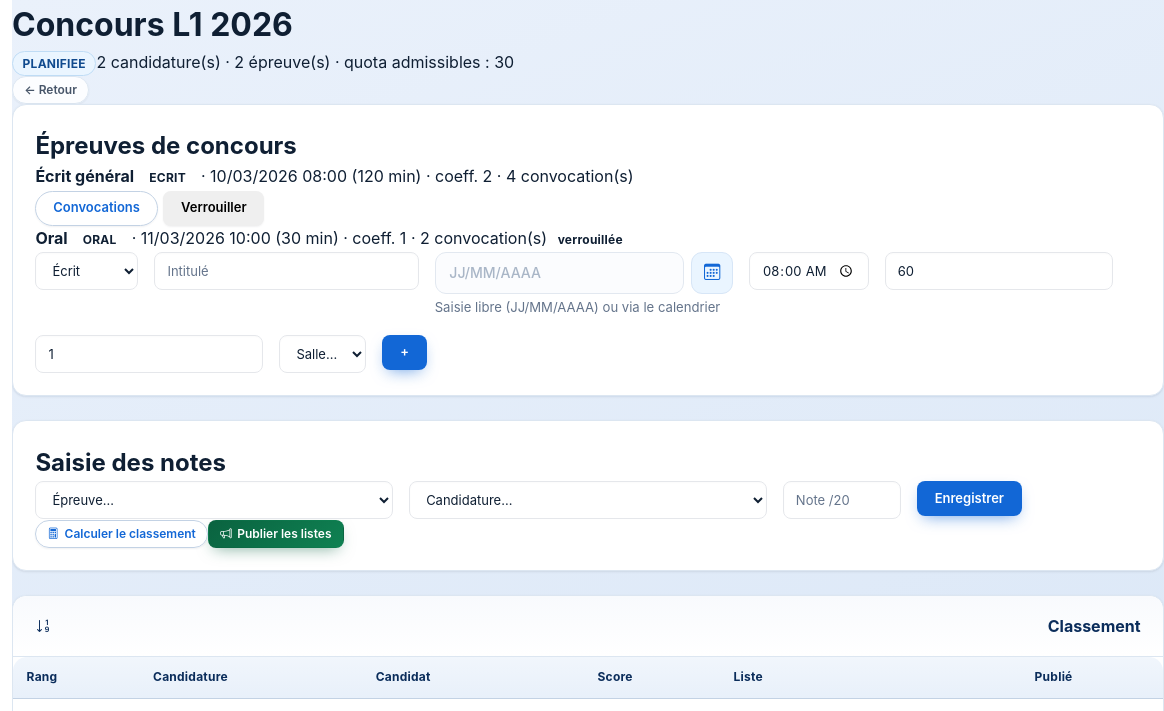
Test: CampagneDetail — actions sur épreuves et classement › génère les convocations après confirmation (rien si annulé)
This screenshot has width=1164, height=711.
Check: the heading "Concours L1 2026" is shown, box [12,5,293,44]
Click the button "Convocations" at coordinates (97, 208), box [35,191,158,226]
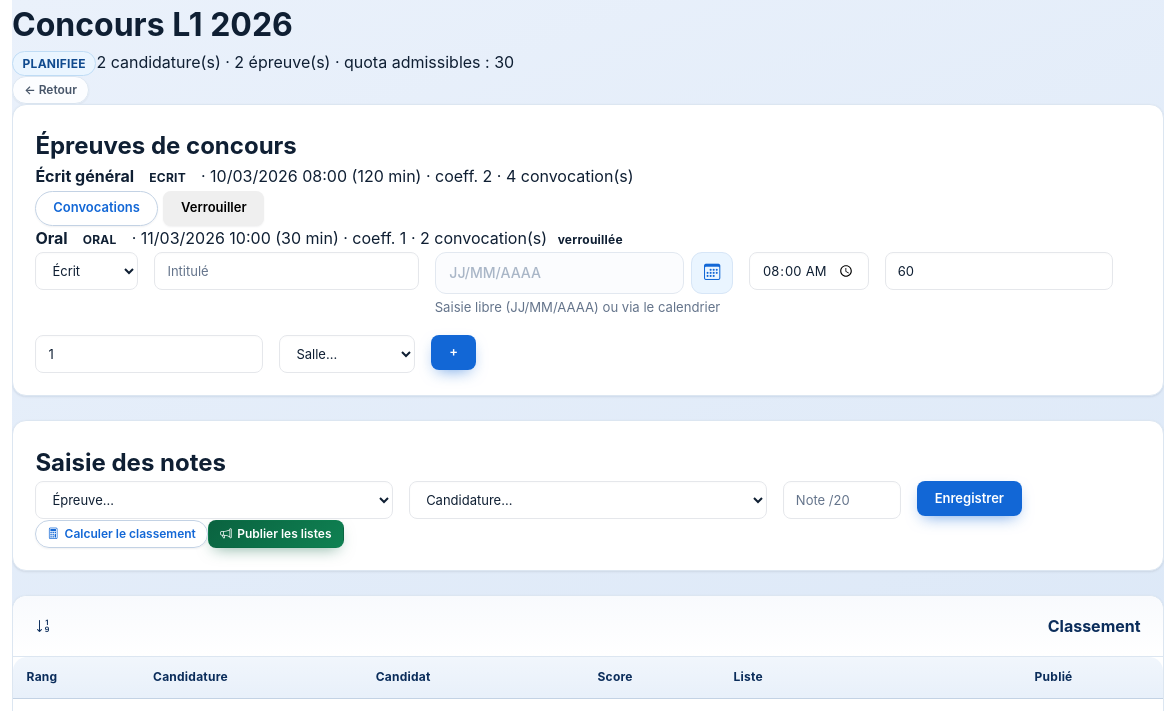
Click the button "Convocations" at coordinates (97, 208), box [35,191,158,226]
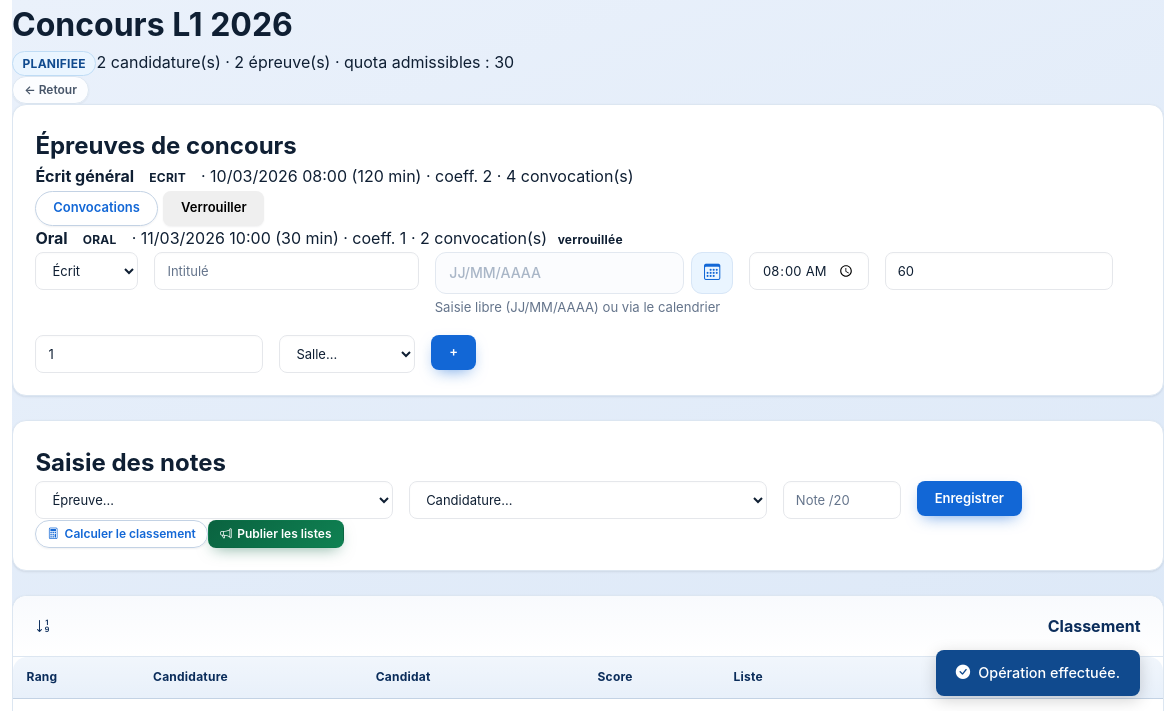
Check: the text "Opération effectuée." is shown, box [936,650,1140,696]
